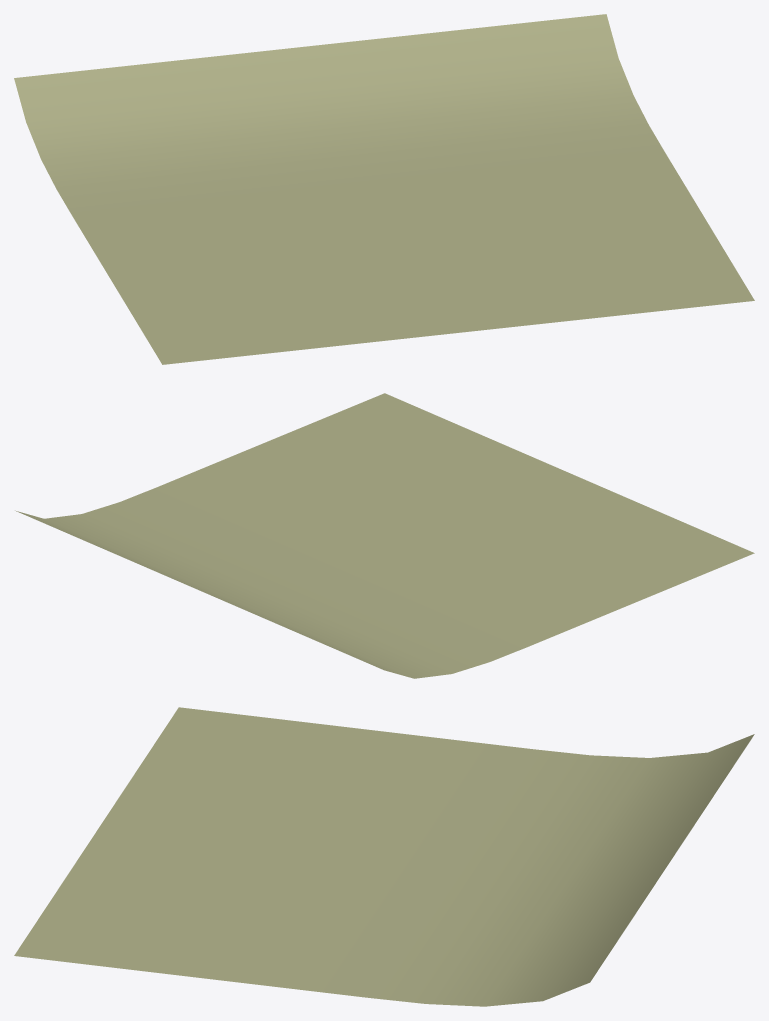
The model's file is Post-It 2 .fbx.
The picture shows the model from 3 angles, top to bottom: view 1: azimuth 30°, elevation 25°; view 2: azimuth 150°, elevation 25°; view 3: azimuth 270°, elevation 25°; orthographic projection. The views are drawn at different scales.
Parts seen in each view (by area): view 1: pPlane30; view 2: pPlane30; view 3: pPlane30.
Part boxes in pixels (x1,y1,x2,y2): pPlane30: [14, 14, 754, 364]; pPlane30: [15, 393, 754, 678]; pPlane30: [14, 707, 754, 1006].
Size of the model in its own units: 1.23 by 0.0751 by 1.21.
